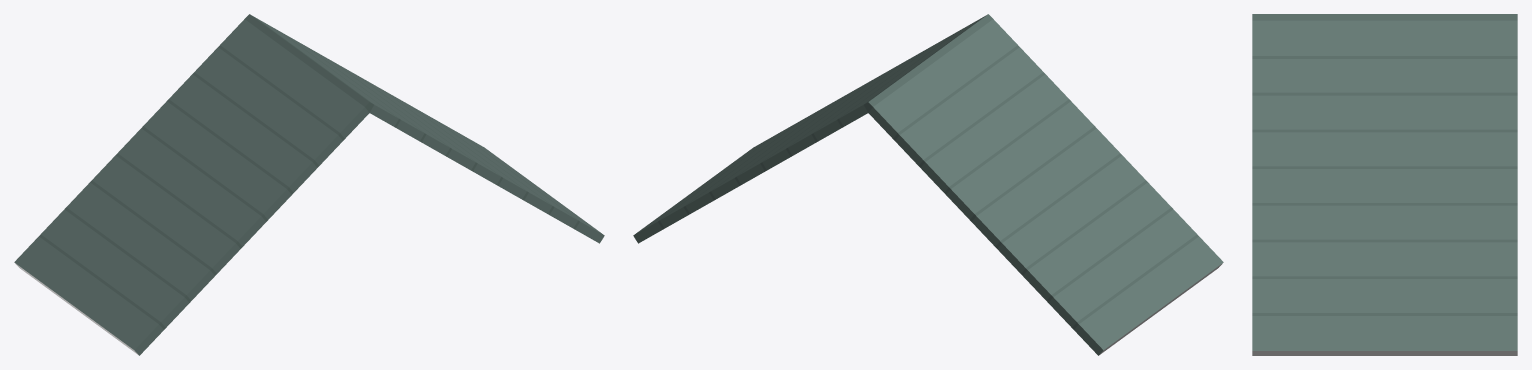
File: Roof1_C6_01.fbx
The picture shows the model from 3 angles, left to right: view 1: azimuth 30°, elevation 25°; view 2: azimuth 150°, elevation 25°; view 3: azimuth 270°, elevation 25°; orthographic projection. The views are drawn at different scales.
Visible parts, largest first — view 1: Roof1_C6_01; view 2: Roof1_C6_01; view 3: Roof1_C6_01.
Part boxes in pixels (x1,y1,x2,y2): Roof1_C6_01: (14, 14, 604, 355); Roof1_C6_01: (633, 14, 1223, 355); Roof1_C6_01: (1252, 14, 1517, 355).
Size of the model in its own units: 565 by 227 by 250.
